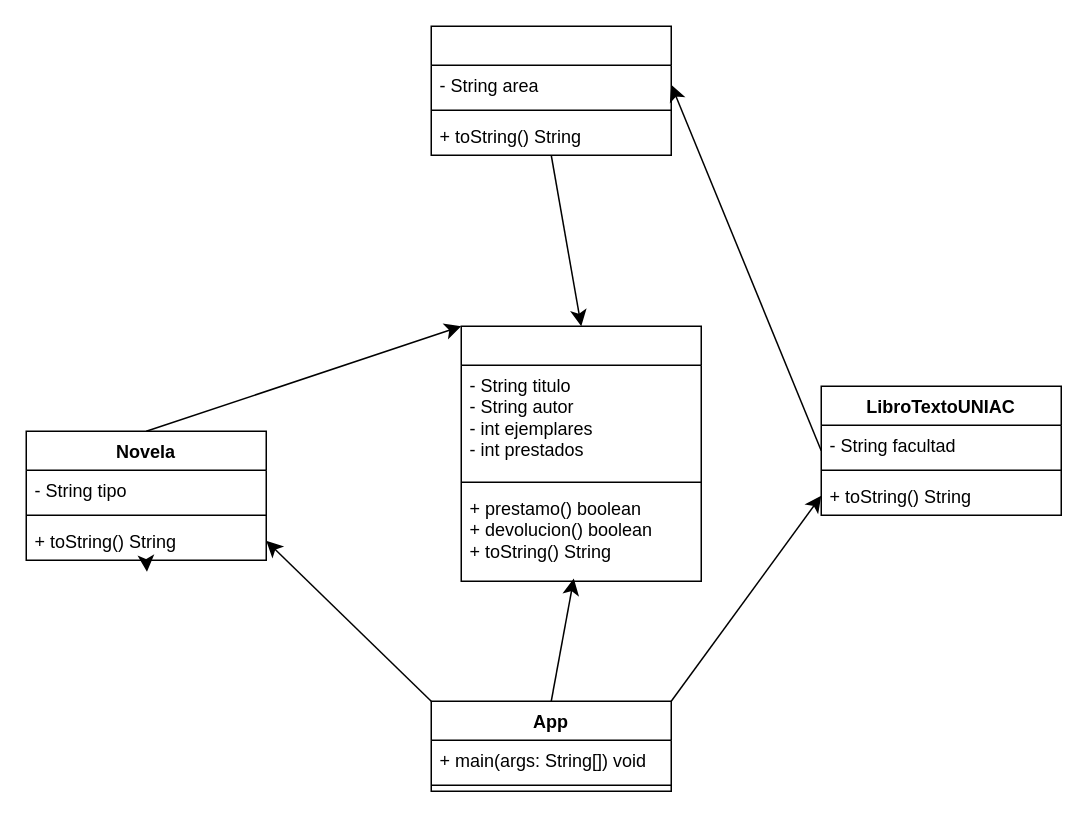
The diagram is 1088 pixels wide and 818 high, and some of its shapes have lost their labels. Each missing label, with the box of its shape:
Libro: (460, 325, 701, 581)
LibroTexto: (430, 25, 671, 155)
